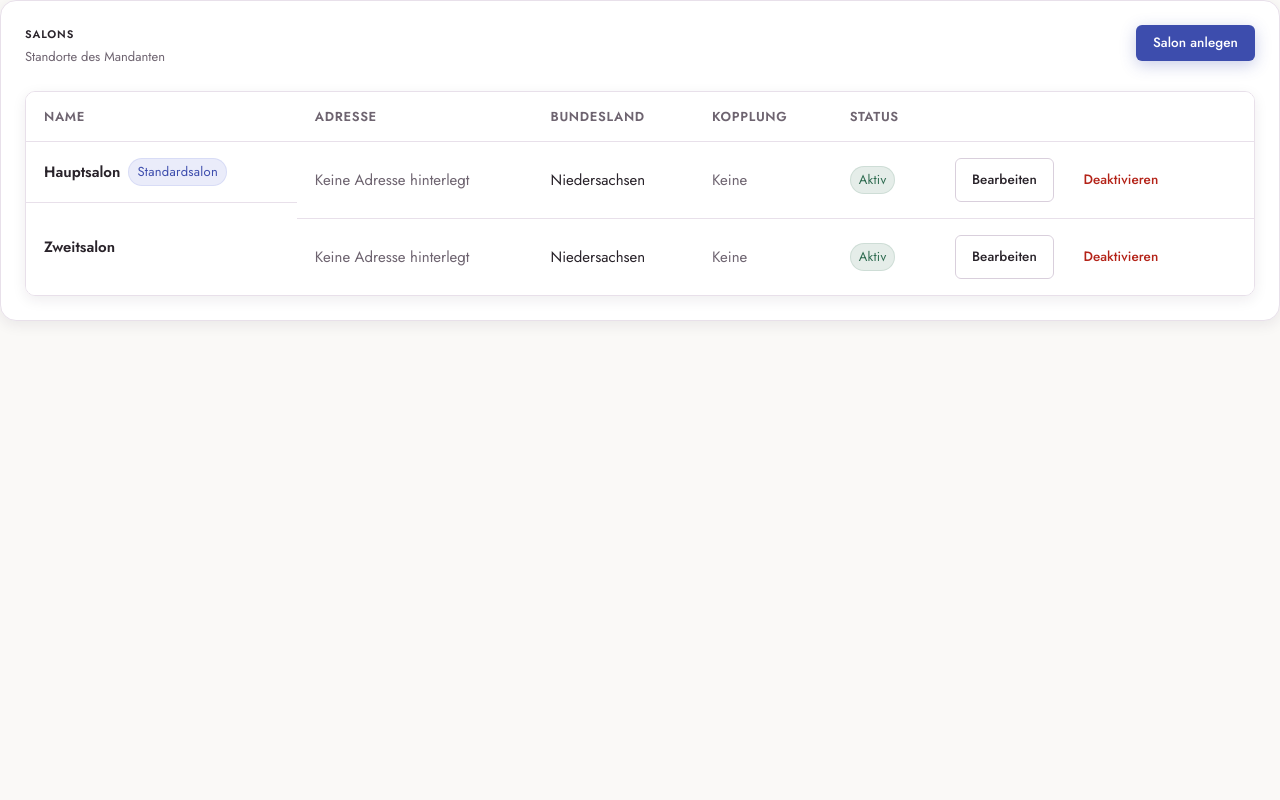
Scenario: SalonsSection › a stale-list refusal reloads the list while the dialog stays open
Step 1. Click the button "Bearbeiten" in the row of "Zweitsalon" → {"x": 1004, "y": 257}, box [955,235,1054,279]
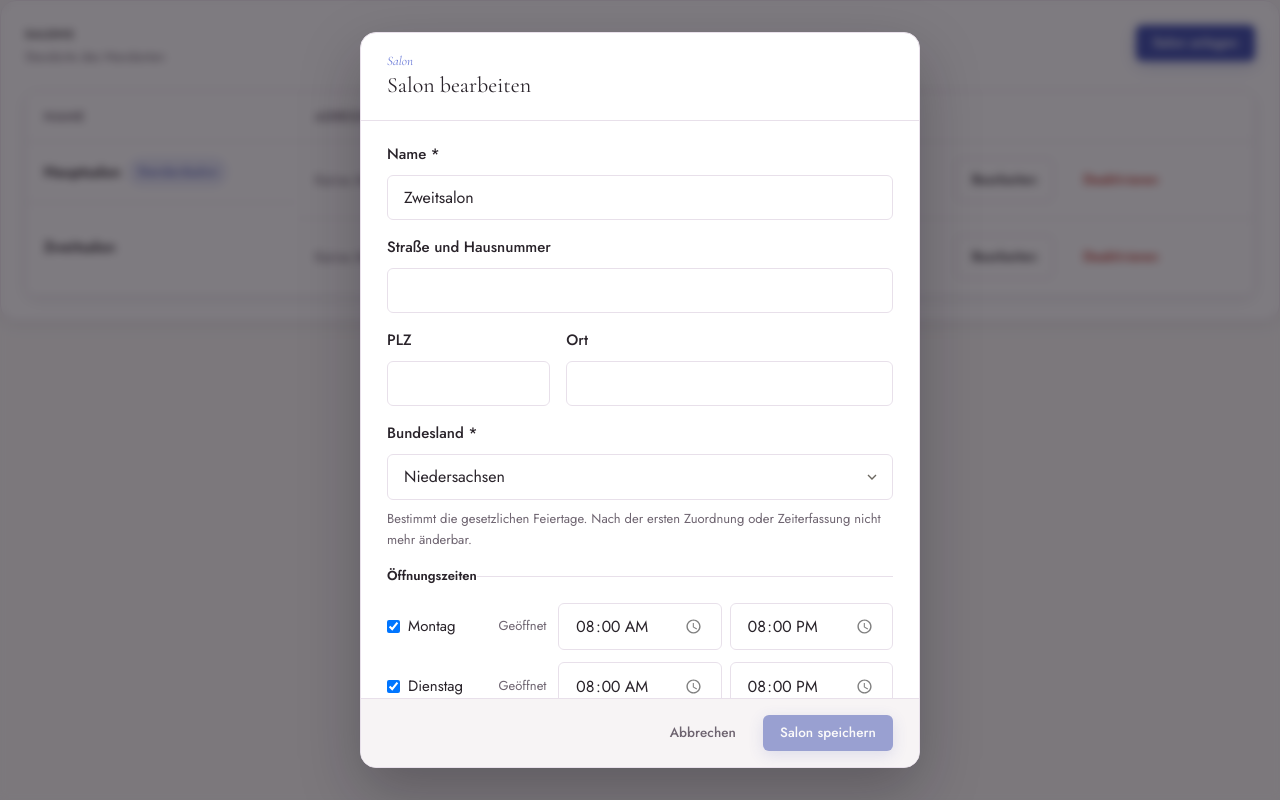
Step 2. Replace the text in the field labelled "Name *" with "Anders" → {"x": 640, "y": 198}, box [387,175,893,220]
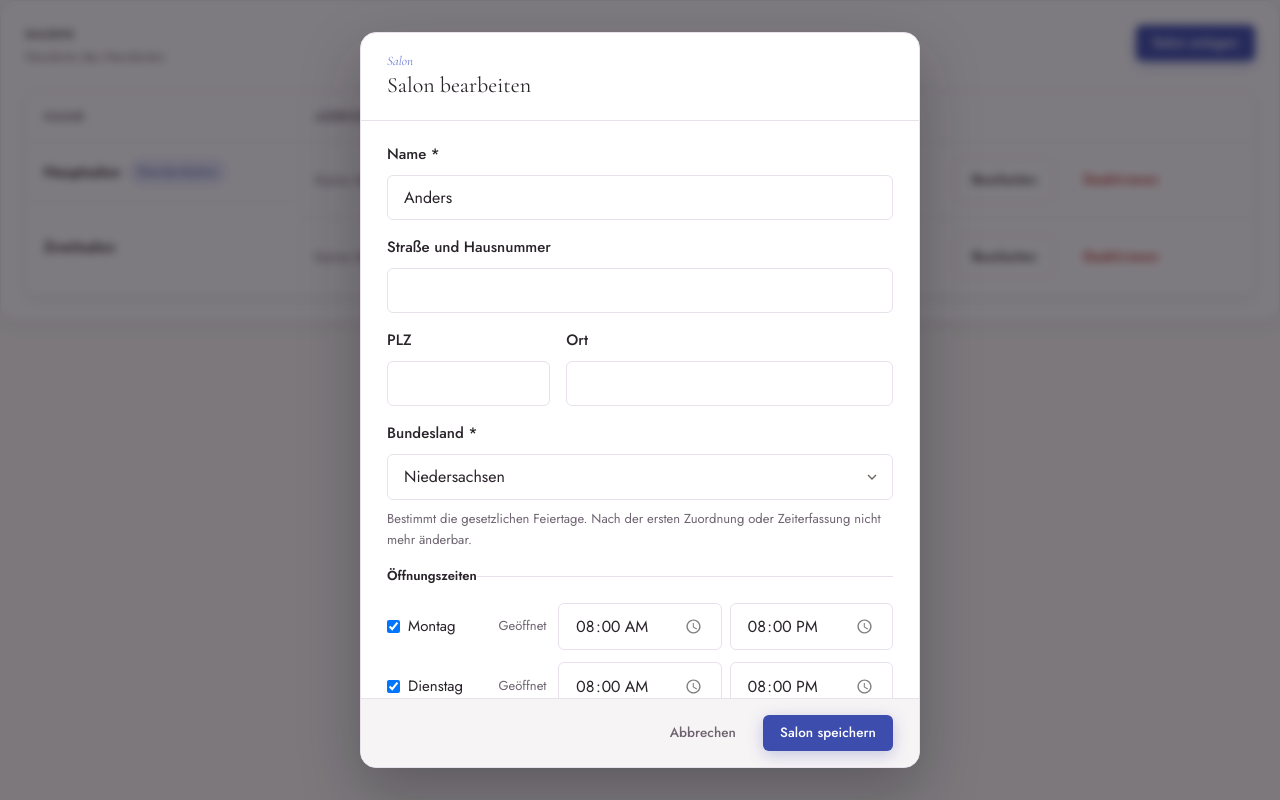
Step 3. Click the button "Salon speichern" → {"x": 828, "y": 733}, box [763,715,893,751]
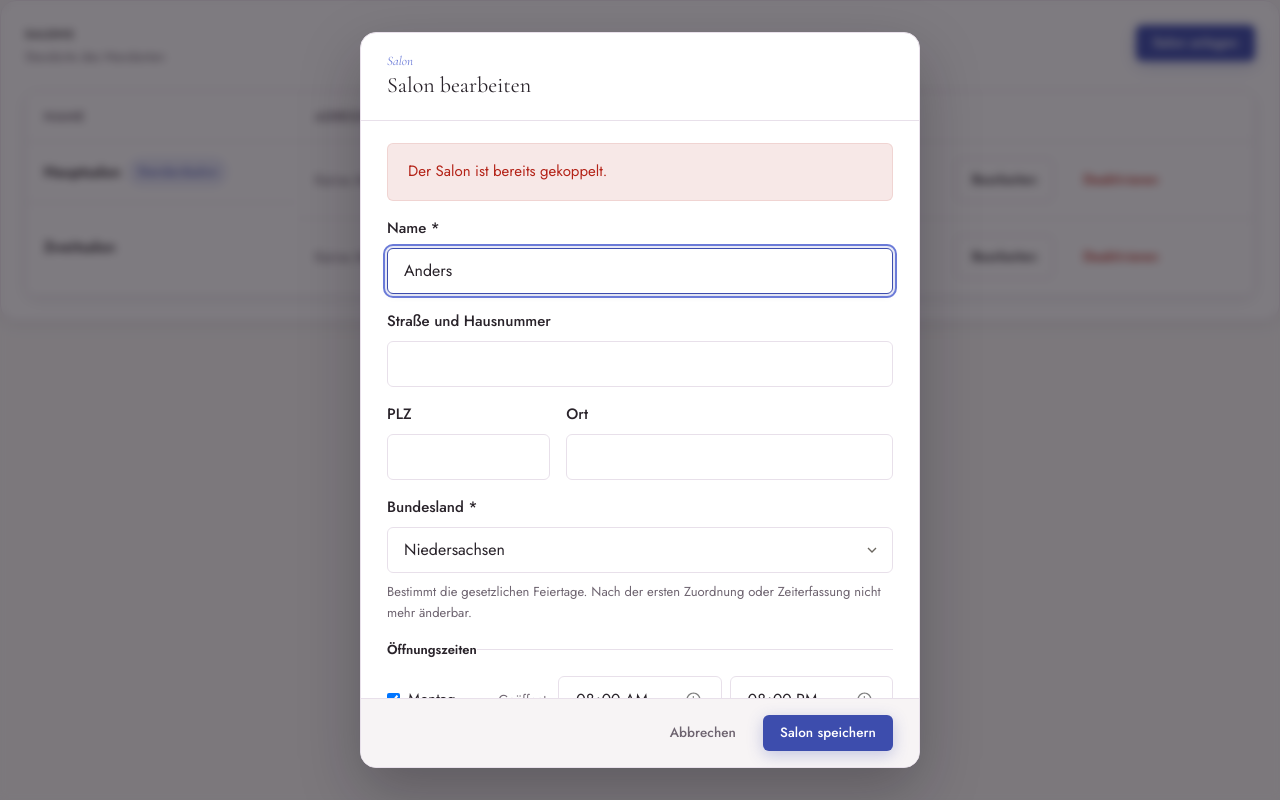
Expected: the message "Der Salon ist bereits gekoppelt." is shown, [387,143,893,201]
